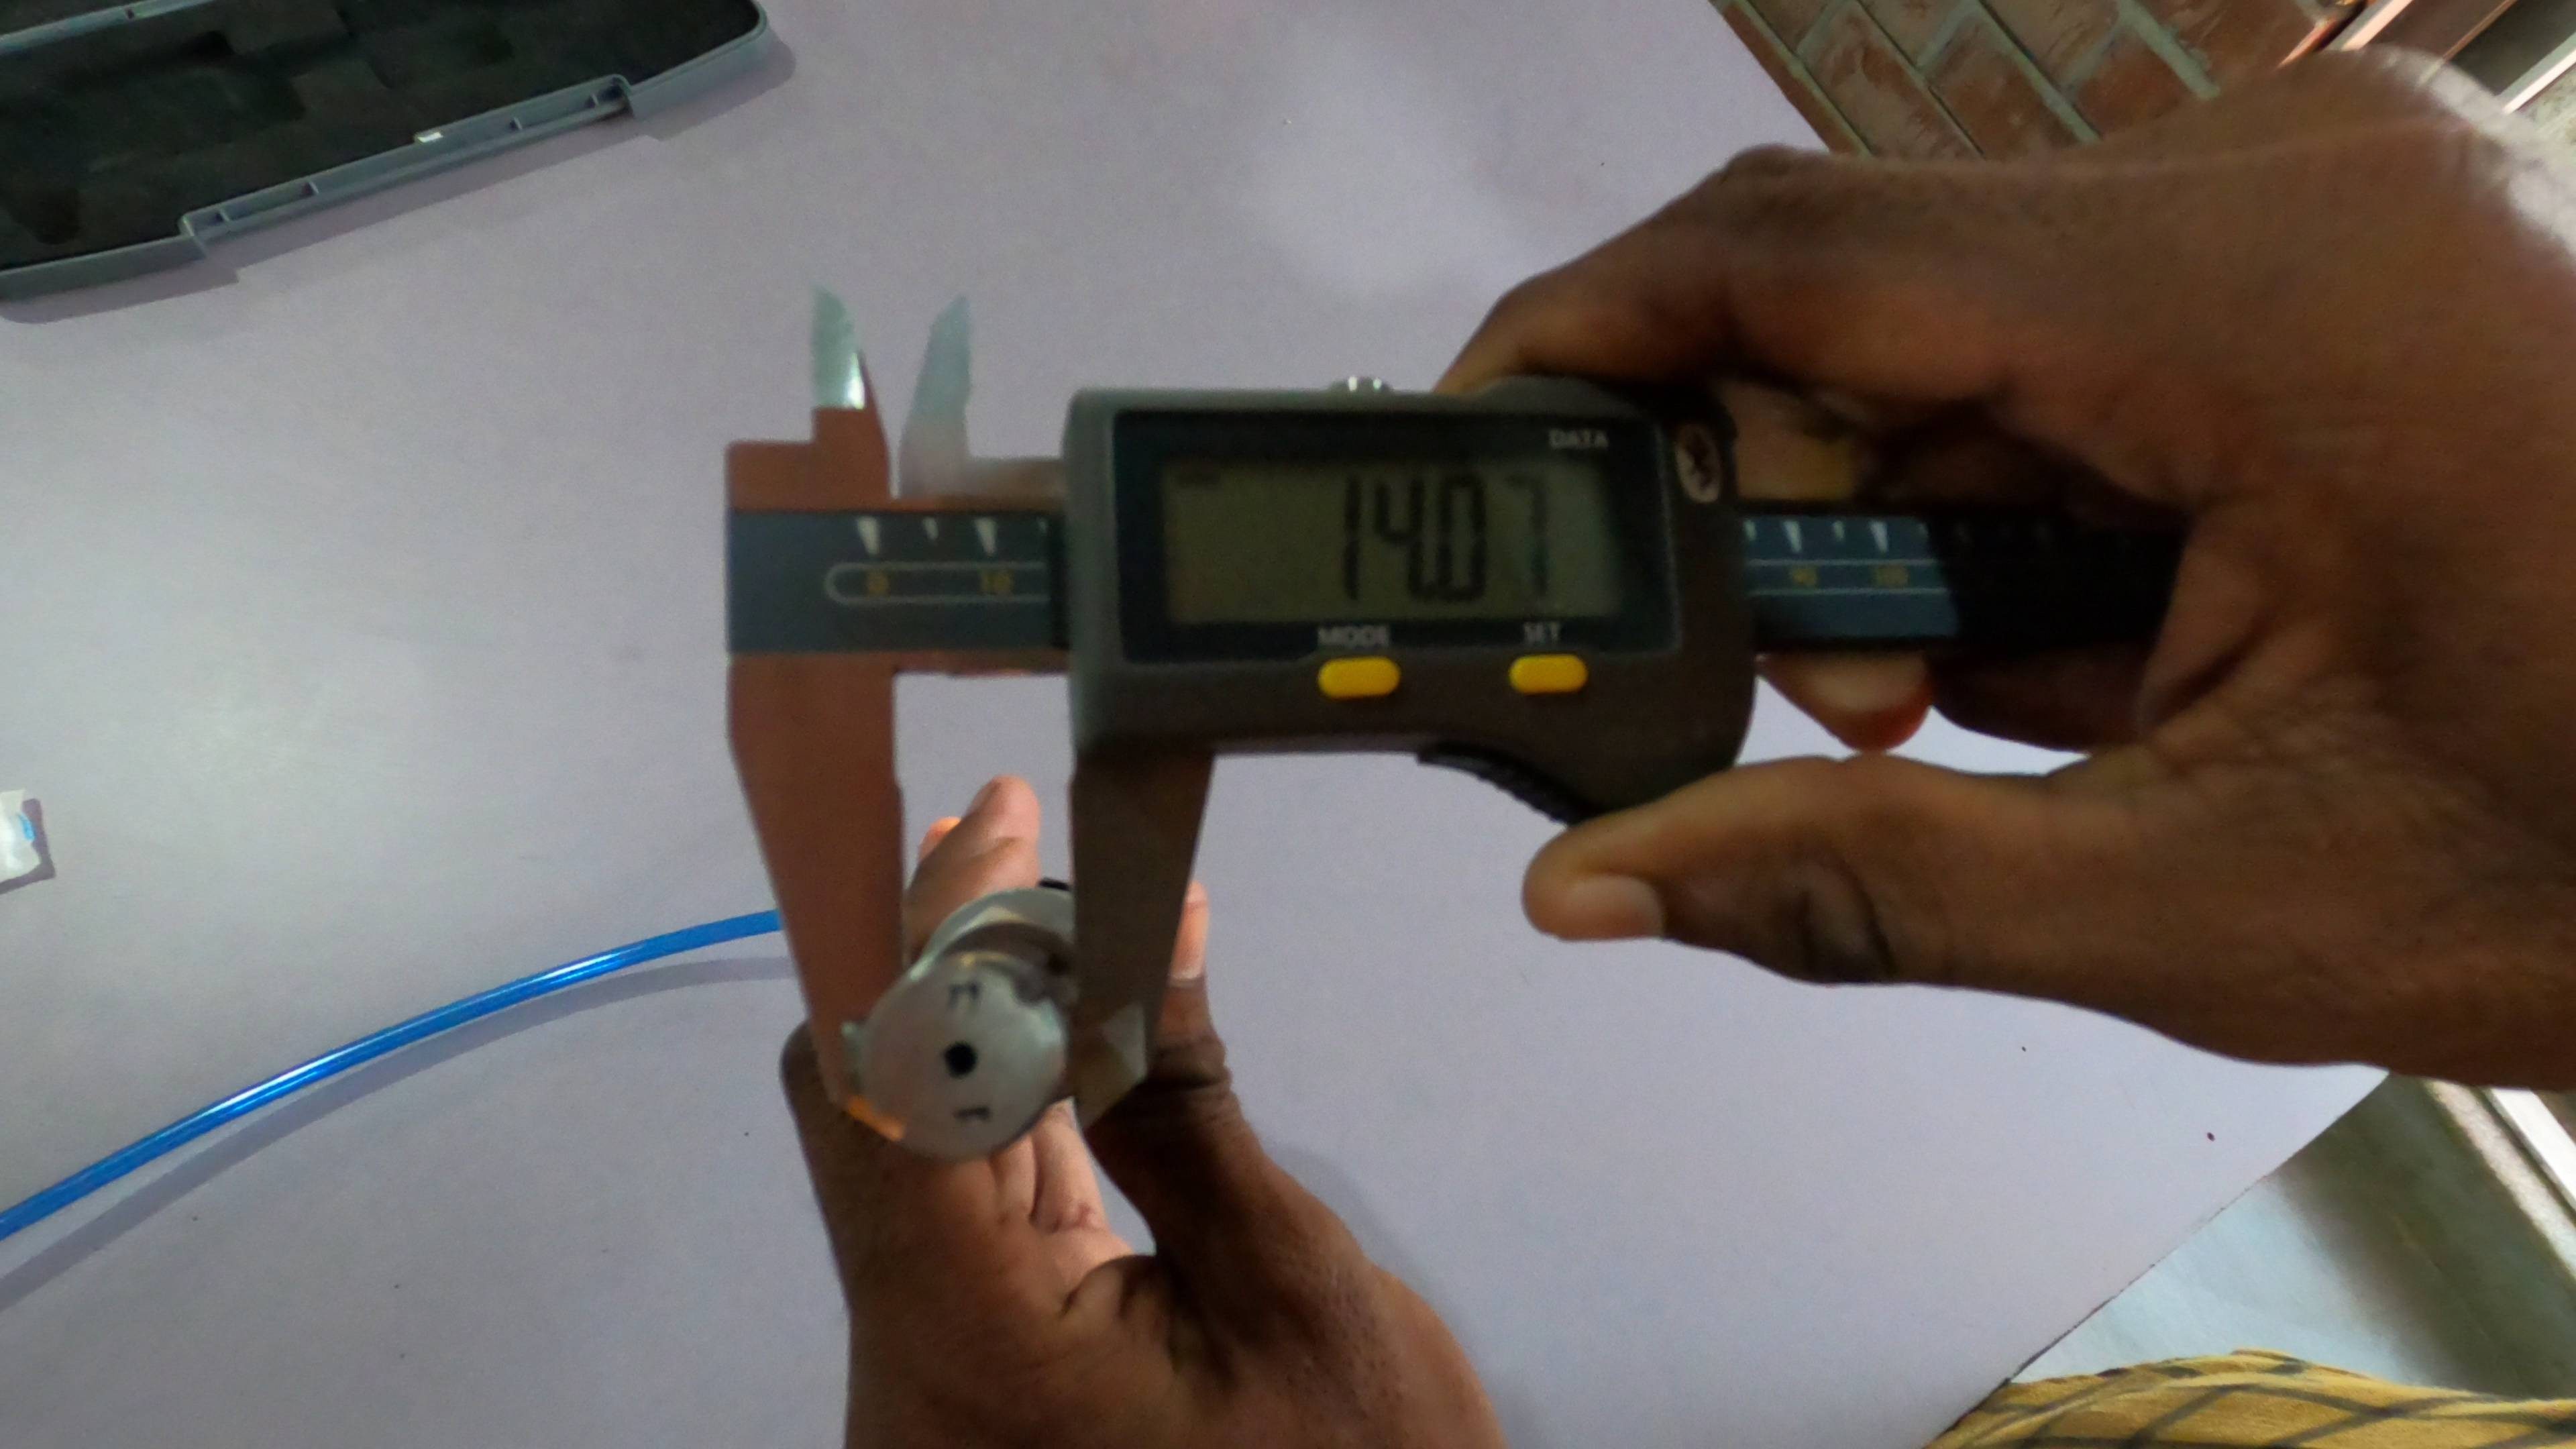vernier_caliper: (722, 287, 2134, 1157)
